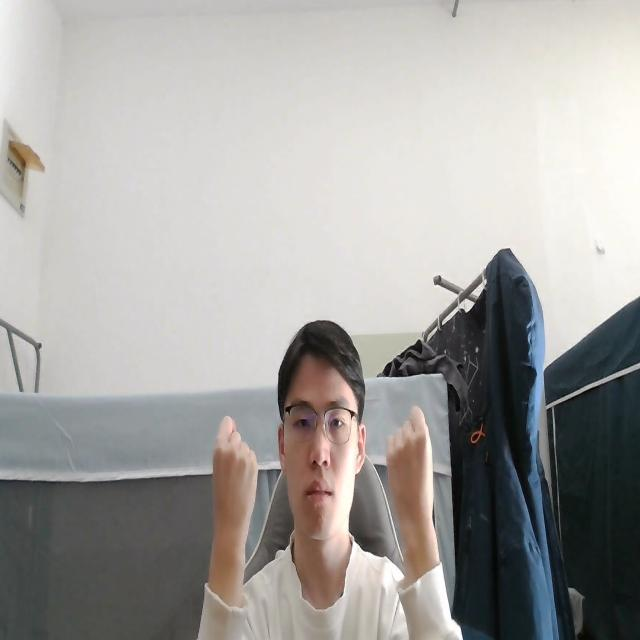ten: (382, 399, 439, 551), (209, 410, 262, 550)
